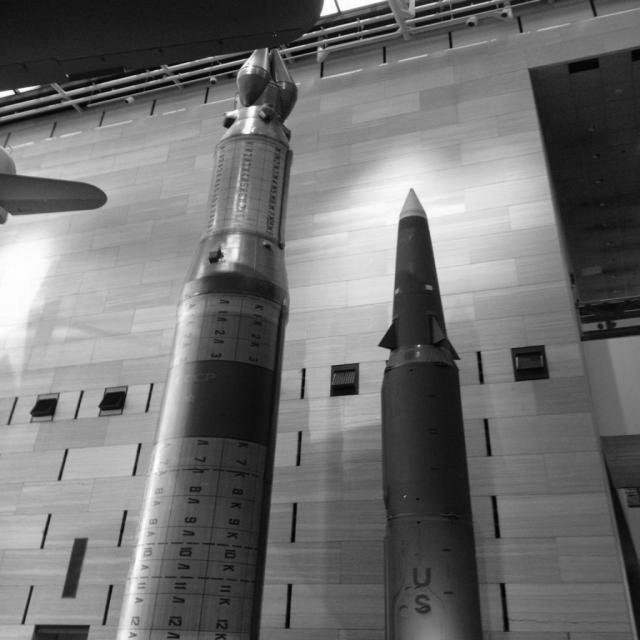missile: (113, 40, 304, 640), (385, 187, 487, 640)
